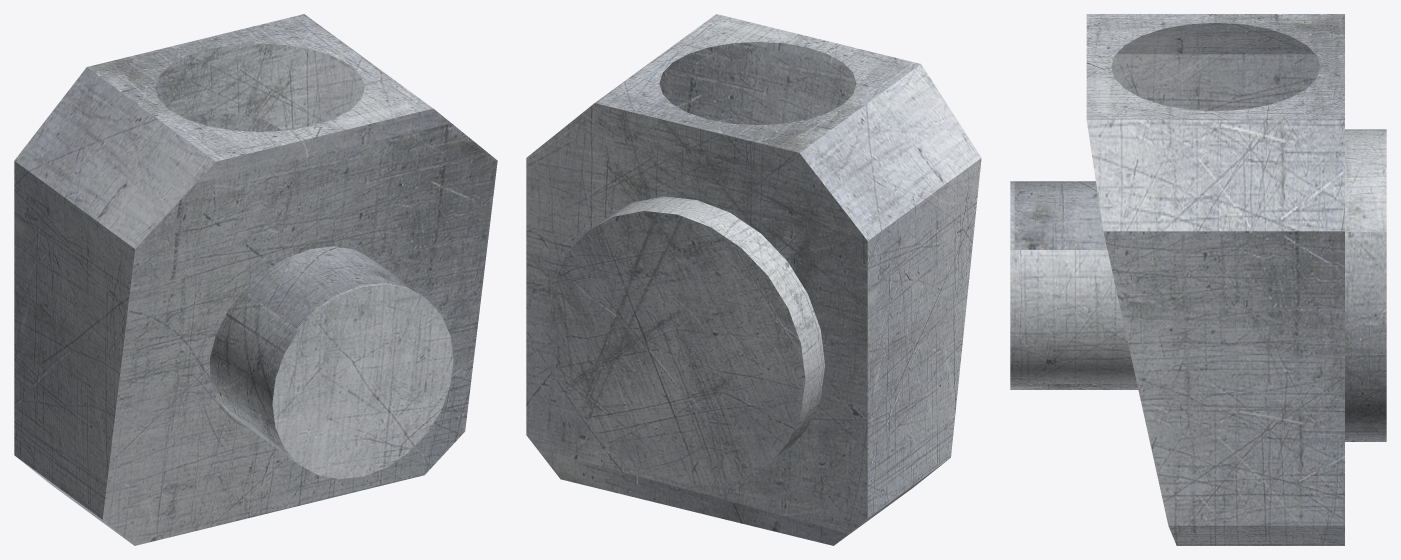
Rendered from WILDCAT_Foot.FBX.
3 renders of one model, left to right at view 1: azimuth 30°, elevation 25°; view 2: azimuth 150°, elevation 25°; view 3: azimuth 270°, elevation 25°, orthographic. The views are drawn at different scales.
Visible parts, largest first — view 1: WILDCAT_Foot; view 2: WILDCAT_Foot; view 3: WILDCAT_Foot.
Part boxes in pixels (x1=…): WILDCAT_Foot: x1=14, y1=14, x2=497, y2=545; WILDCAT_Foot: x1=526, y1=14, x2=981, y2=545; WILDCAT_Foot: x1=1010, y1=14, x2=1386, y2=545.
Bounding box in the file's own units: 4.98 × 4.48 × 5.36.
Materials: 1 (1 with a texture image).
